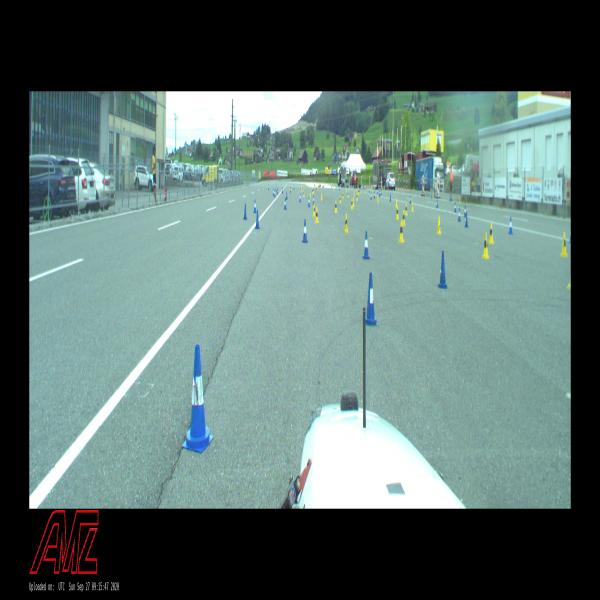blue_cone: (182, 344, 213, 454), (366, 274, 378, 325), (438, 251, 447, 289), (363, 231, 369, 259), (302, 220, 308, 242), (255, 210, 260, 229), (509, 217, 513, 234), (244, 203, 248, 220), (464, 213, 468, 227), (458, 208, 461, 222), (284, 198, 287, 210), (454, 202, 457, 213), (254, 200, 256, 212), (308, 196, 310, 208), (464, 206, 466, 216), (436, 198, 438, 208), (299, 193, 301, 202), (370, 192, 372, 200), (409, 196, 411, 204), (286, 192, 288, 199), (274, 190, 276, 197), (313, 196, 314, 204), (390, 194, 391, 202), (273, 188, 274, 196), (374, 192, 375, 198)
yellow_cone: (482, 233, 489, 258), (561, 233, 567, 256), (399, 220, 404, 242), (489, 223, 494, 243), (344, 215, 348, 234), (437, 216, 441, 234), (315, 207, 319, 223), (312, 203, 315, 216), (396, 206, 399, 219), (405, 204, 408, 215), (403, 210, 405, 225), (411, 202, 414, 212), (335, 200, 337, 213), (351, 198, 353, 209), (339, 195, 341, 203), (342, 192, 344, 199), (356, 193, 358, 200), (321, 194, 323, 200), (353, 197, 354, 206), (396, 198, 397, 206), (377, 195, 378, 203), (347, 191, 348, 197)
